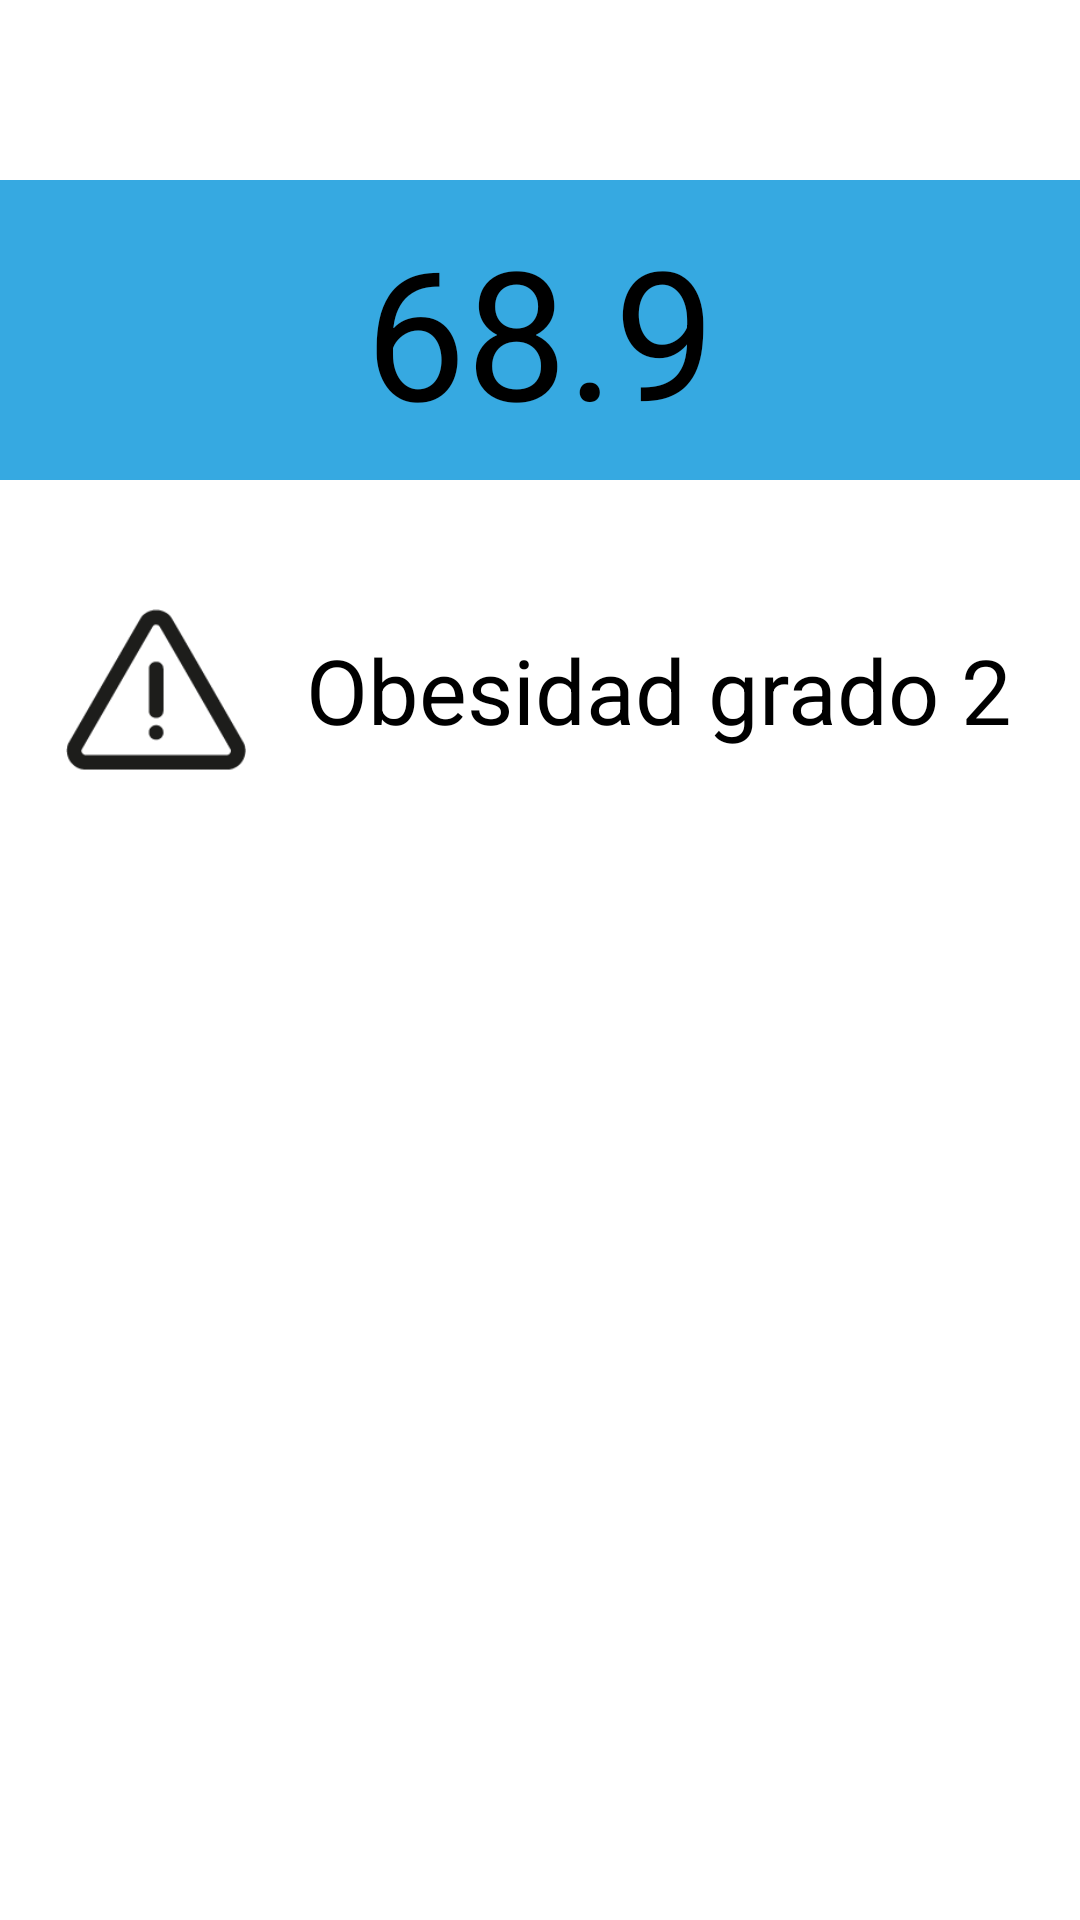

Where to tap for icons on this 1080w x 1920h app screen, as (x=x, y=y):
peligro: (x=156, y=689)
